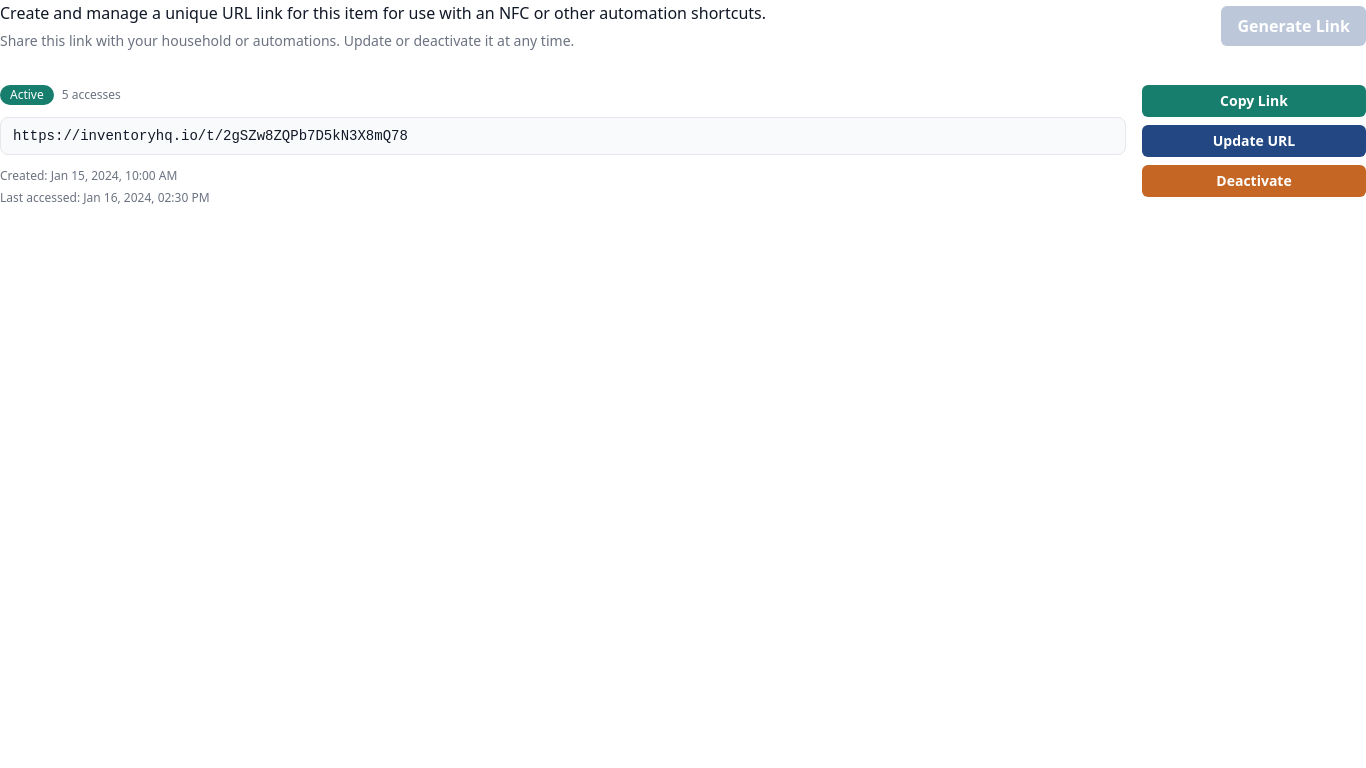
Test case: NFCUrlManager Component › Rotate URL (T046) › should show confirmation dialog before rotating
Expected: the text "Active" is shown, [0, 85, 54, 105]
Click the button "Update URL" at (1254, 141), box [1142, 125, 1365, 157]
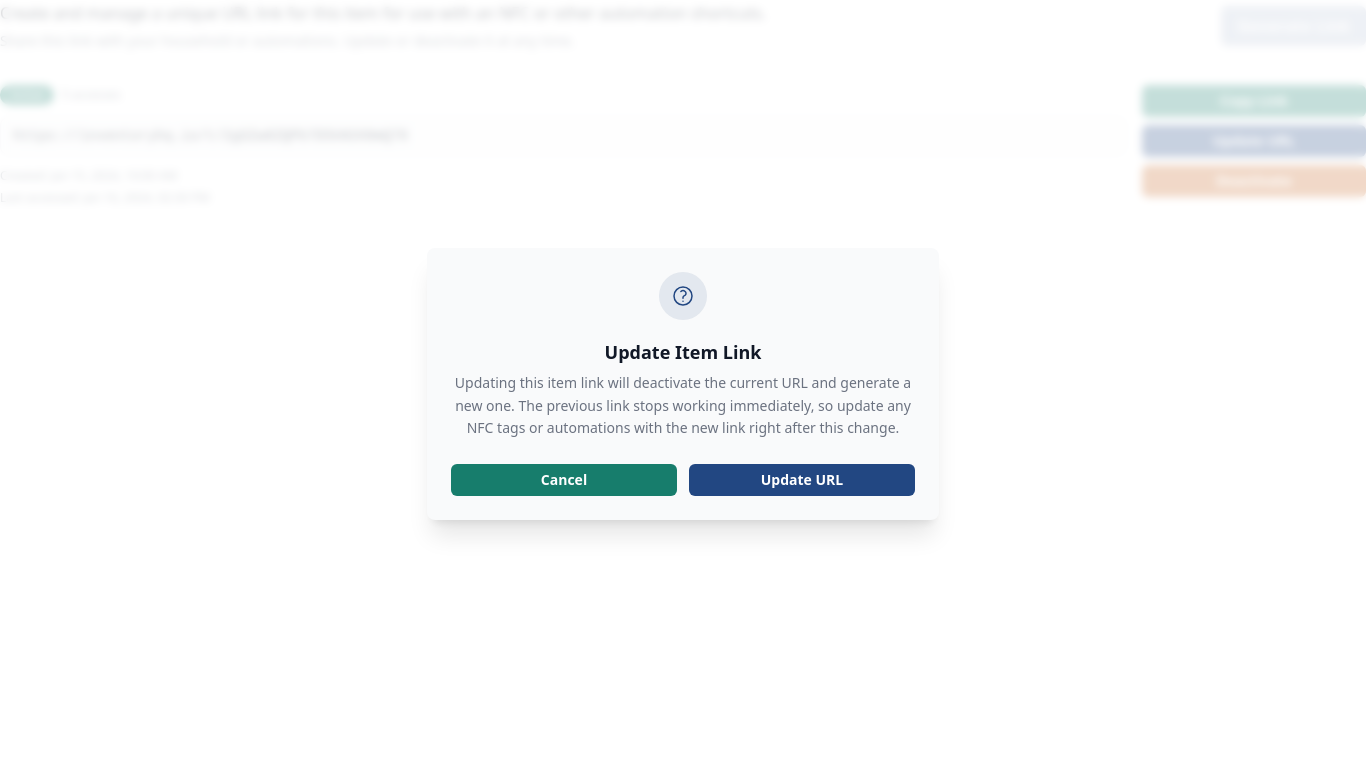
Now the heading "Update Item Link" is shown, box [605, 340, 762, 364]
Now the text "Updating this item link will deactivate" is shown, box [455, 373, 911, 437]
